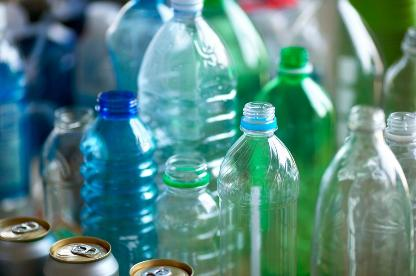Can: (312, 104, 416, 276), (0, 217, 56, 276), (42, 237, 120, 276), (128, 259, 193, 276)
Plastic Bottle: (72, 72, 162, 276), (216, 99, 302, 275), (152, 151, 219, 276)
